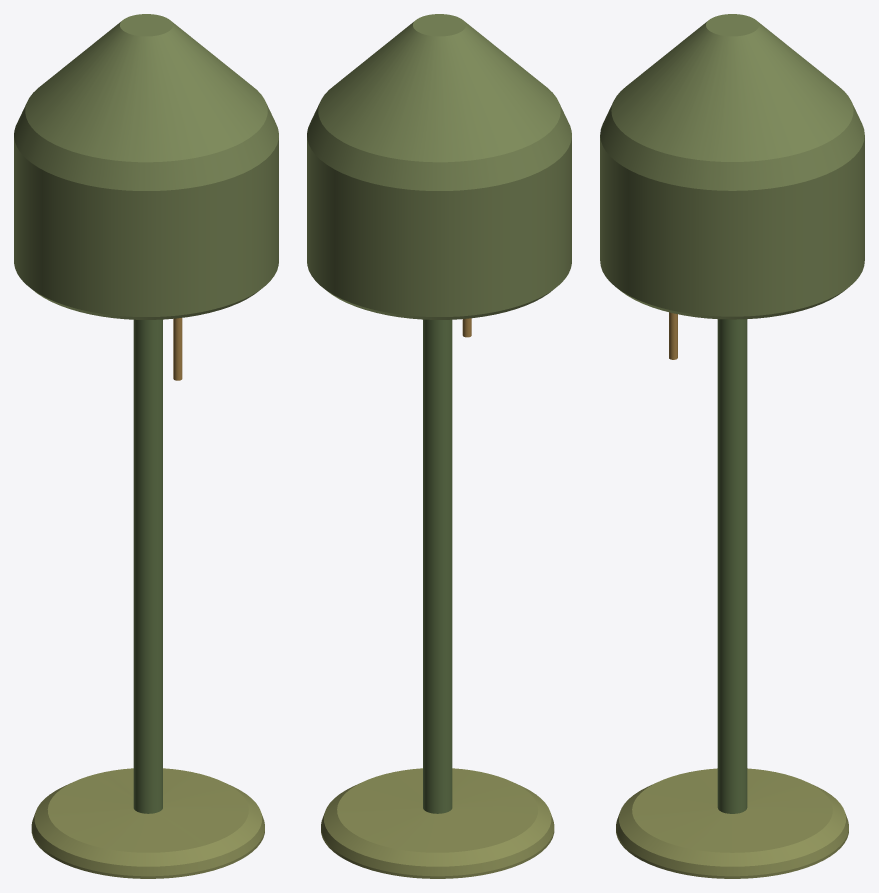
3 views of the same model, side by side, from view 1: azimuth 30°, elevation 25°; view 2: azimuth 150°, elevation 25°; view 3: azimuth 270°, elevation 25° (orthographic).
Visible parts, largest first — view 1: shade, base, upright, pull_drop; view 2: shade, base, upright; view 3: shade, base, upright.
Boxes of the visible parts, bbox=[...] form: shade: bbox=[14, 14, 278, 319]; base: bbox=[31, 768, 264, 878]; upright: bbox=[133, 319, 162, 813]; pull_drop: bbox=[173, 318, 182, 380]; shade: bbox=[307, 14, 571, 319]; base: bbox=[321, 768, 554, 878]; upright: bbox=[423, 319, 452, 813]; shade: bbox=[600, 14, 864, 319]; base: bbox=[616, 768, 848, 878]; upright: bbox=[717, 319, 747, 813].
Bounding box in the file's own units: 0.0896 × 0.3002 × 0.0896.
